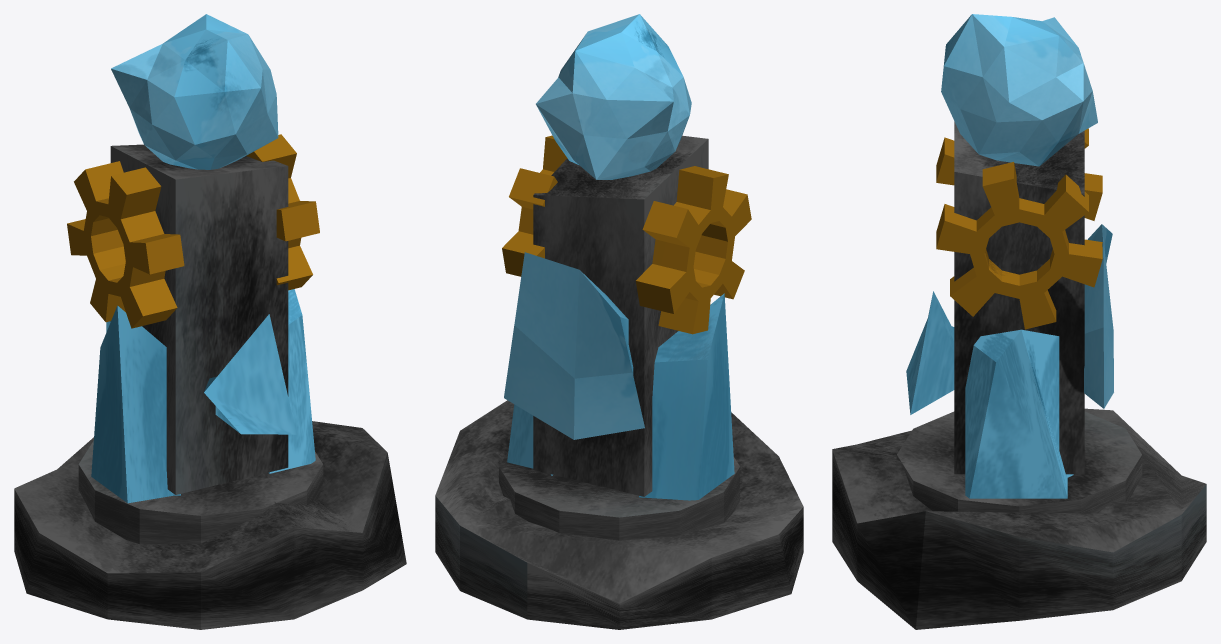
The model's file is iceCannon.obj.
3 views of the same model, side by side, from view 1: azimuth 30°, elevation 25°; view 2: azimuth 150°, elevation 25°; view 3: azimuth 270°, elevation 25° (orthographic).
Parts seen in each view (by area): view 1: IceCannon; view 2: IceCannon; view 3: IceCannon.
Boxes of the visible parts, x1,y1,x2,y2 form: IceCannon: (14,14,406,629); IceCannon: (435,14,803,629); IceCannon: (832,14,1206,629).
Size of the model in its own units: 3.01 by 4.62 by 2.9.
Materials: 2 (2 with a texture image).
